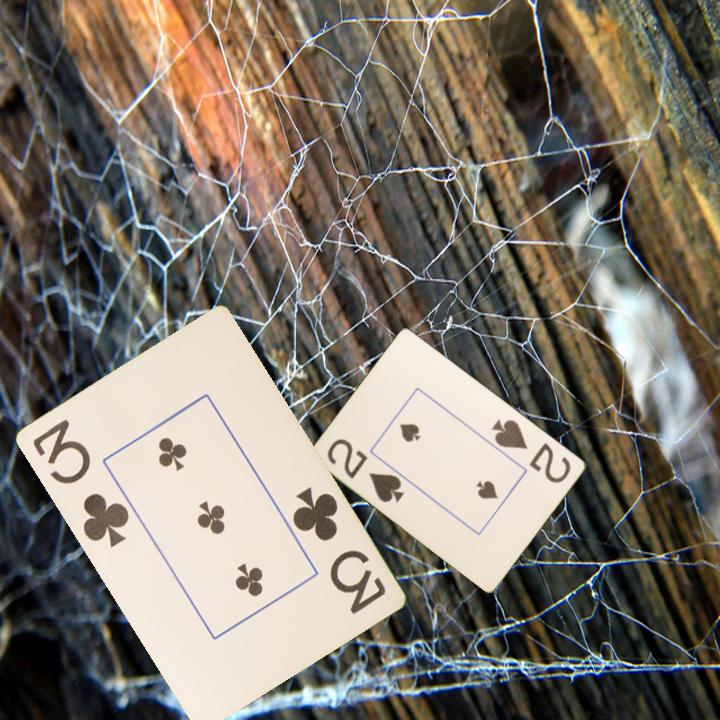2s: (488, 415, 574, 486), (324, 435, 408, 506)
3c: (28, 415, 132, 551), (287, 483, 389, 617)
